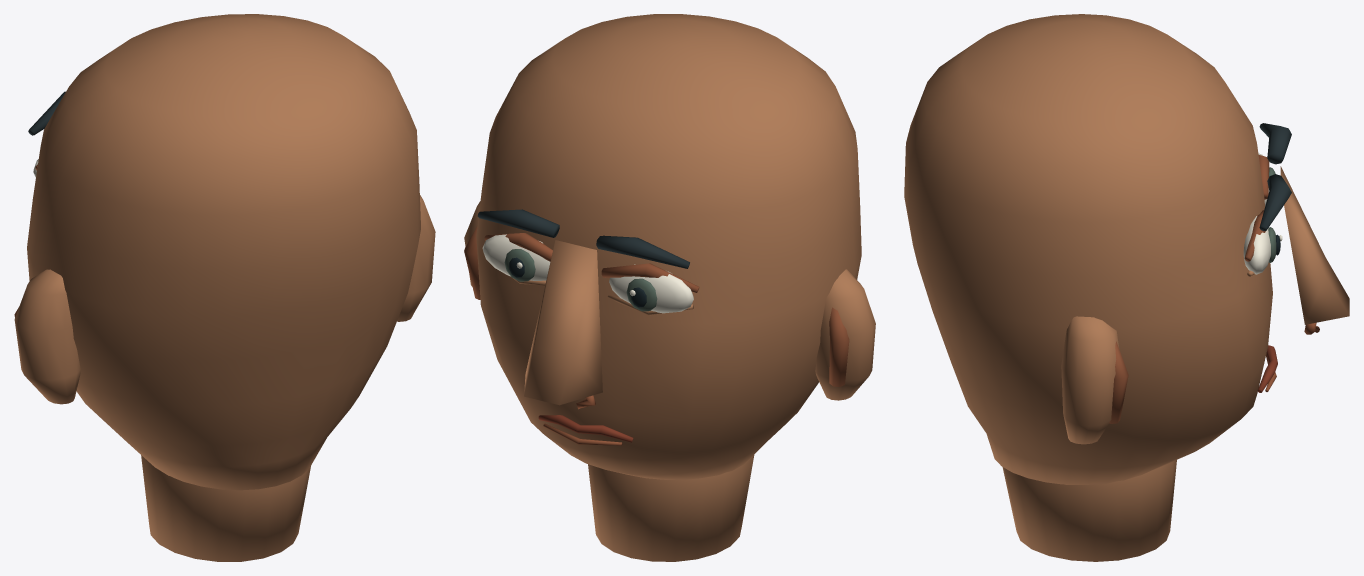
File: CharHead.glb
3 renders of one model, left to right at view 1: azimuth 30°, elevation 25°; view 2: azimuth 150°, elevation 25°; view 3: azimuth 270°, elevation 25°, orthographic. The views are drawn at different scales.
Visible parts, largest first — view 1: CharHead; view 2: CharHead; view 3: CharHead.
Boxes of the visible parts, <box> form: CharHead: <box>14,14,435,561</box>; CharHead: <box>464,14,875,561</box>; CharHead: <box>904,14,1349,561</box>.
Bounding box in the file's own units: 0.272 × 0.313 × 0.258.
